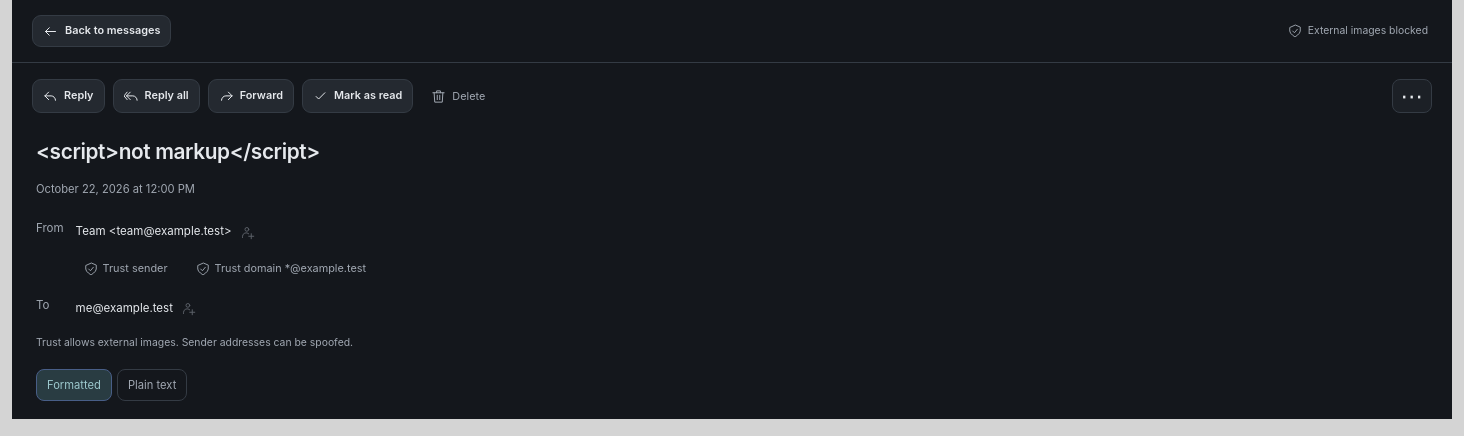
it: isolated message reader › trusts a specific sender directly from the message and can revoke that permission
The width and height of the screenshot is (1464, 436).
What coordinates should you click on to do the following:
click the button with class "sender-trust"
I would click on:
 (126, 269)
Its box is [76,252,176,286].
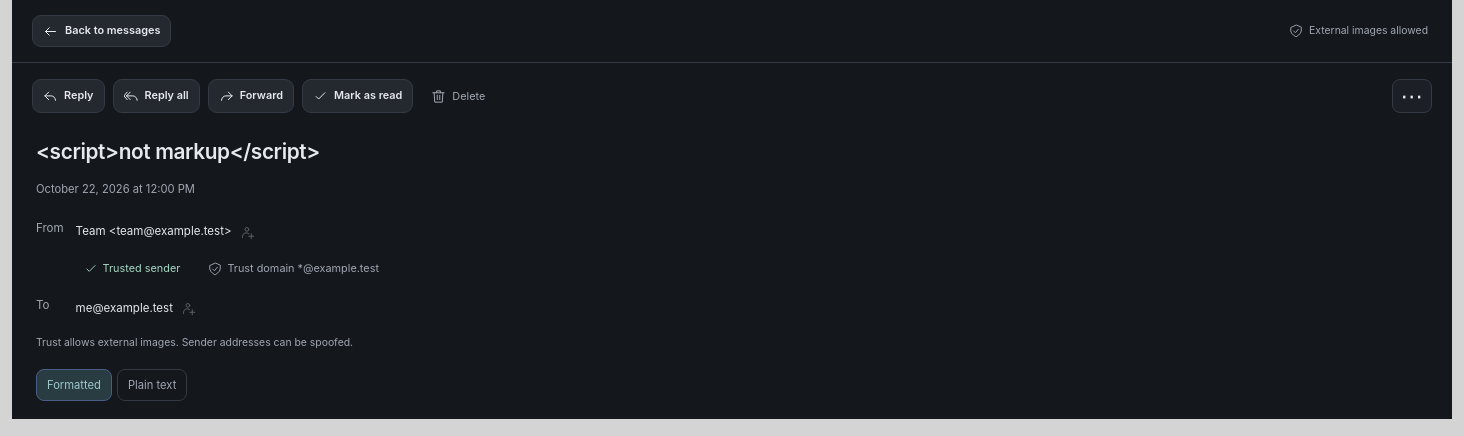
Check: the button with class "sender-trust" reads "Trusted sender"
What coordinates should you click on to do the following:
click the button with class "sender-trust"
I would click on:
 (132, 269)
Its box is [76,252,188,286].
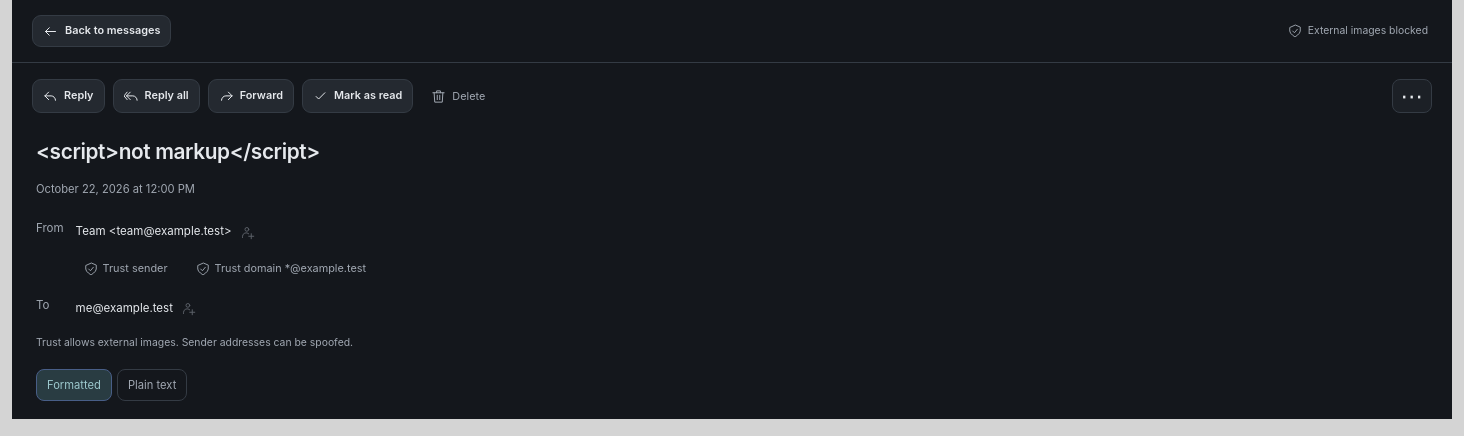
Check: the button with class "sender-trust" reads "Trust sender", box [76,252,176,286]
